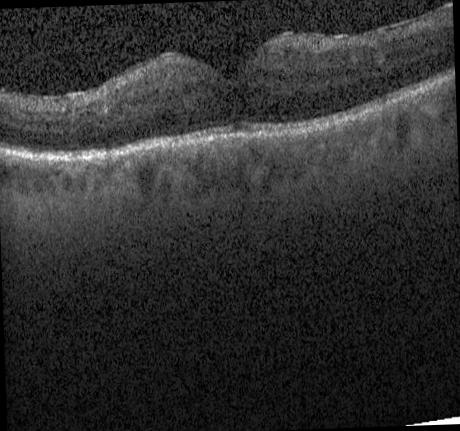subretinal_fluid: (230, 122, 247, 131)
